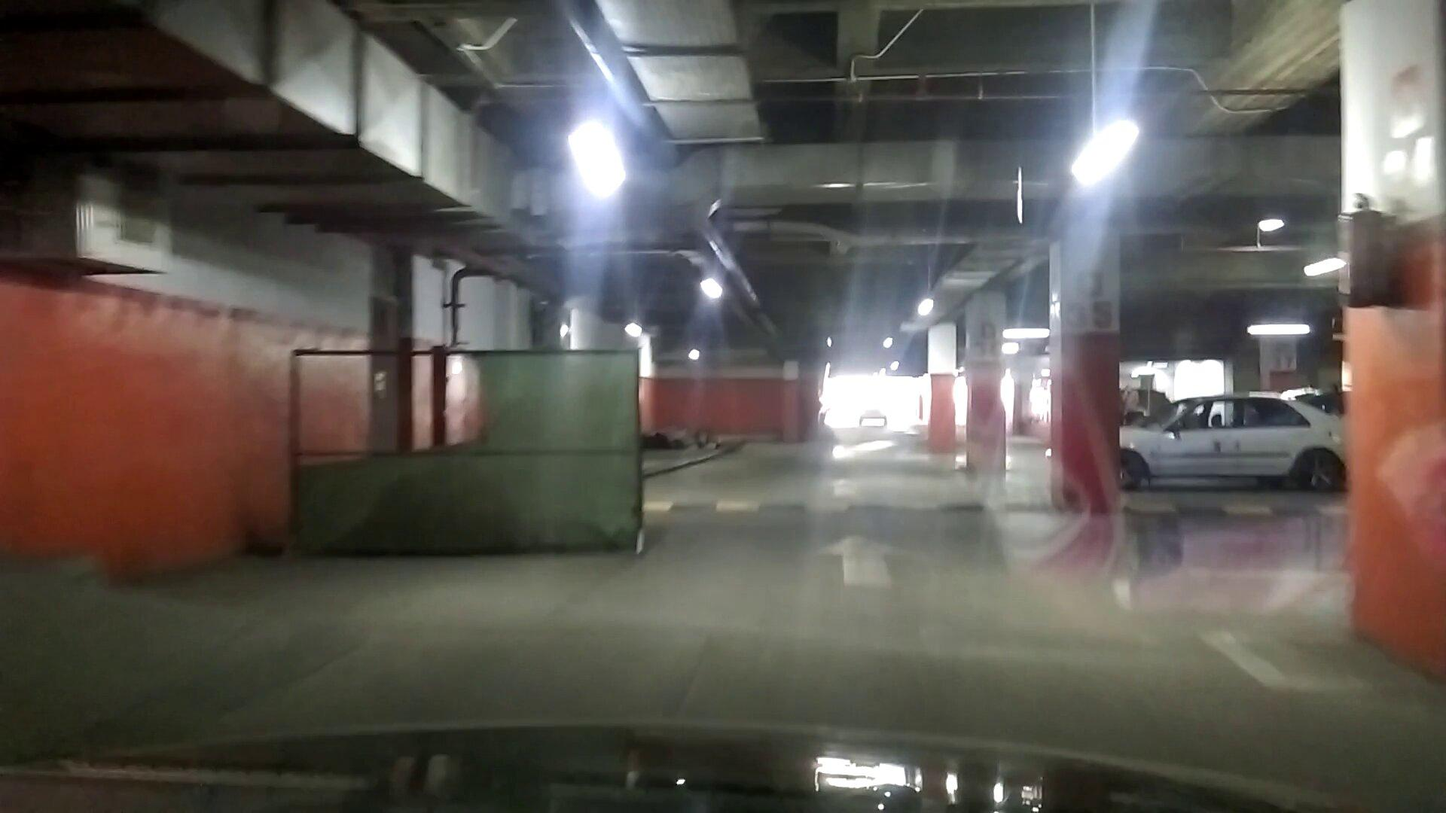Bump: (644, 486, 1034, 521)
